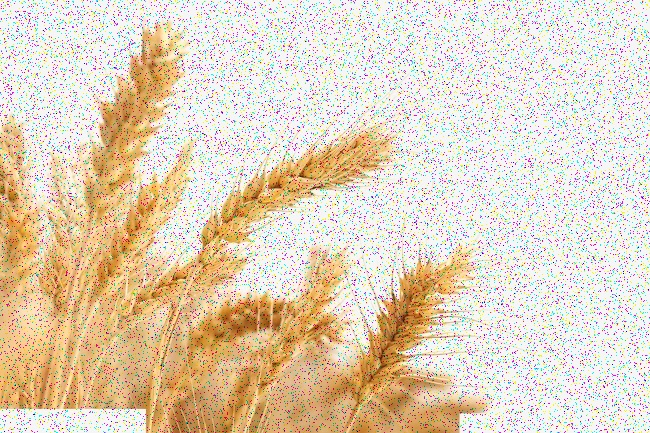wheat: (190, 113, 403, 274), (352, 243, 474, 414)
